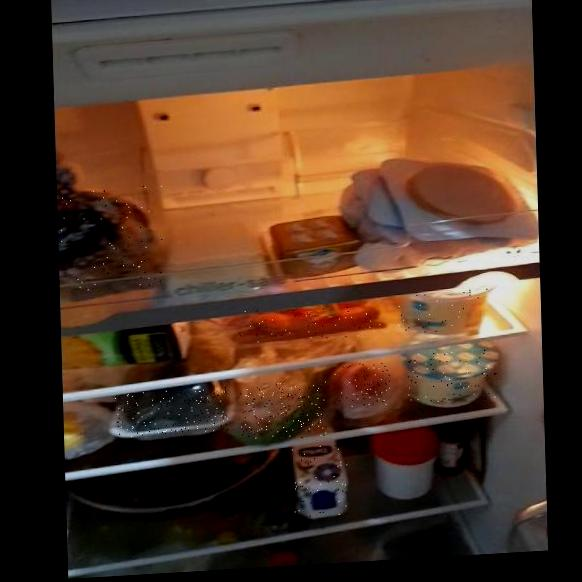bread: (60, 185, 165, 292)
broccoli: (115, 387, 228, 438)
carrot: (238, 303, 381, 343)
green chilies: (240, 380, 328, 441)
milk: (291, 443, 349, 518)
tomato: (335, 362, 391, 408)
yoghurt: (408, 348, 497, 407), (397, 289, 488, 335)
